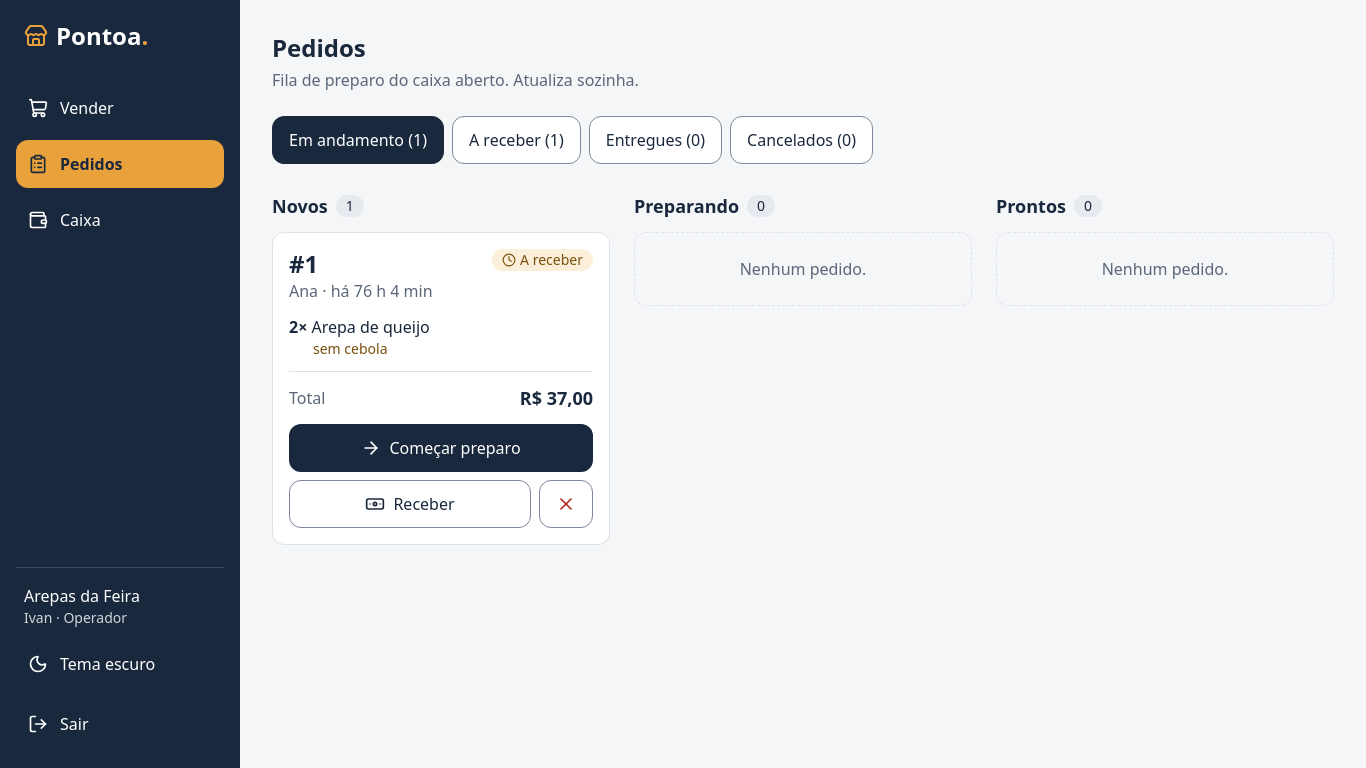
Test: OrdersPage › moves an order to the next step
Click the button "Começar preparo" at (441, 448), box [289,424,593,472]
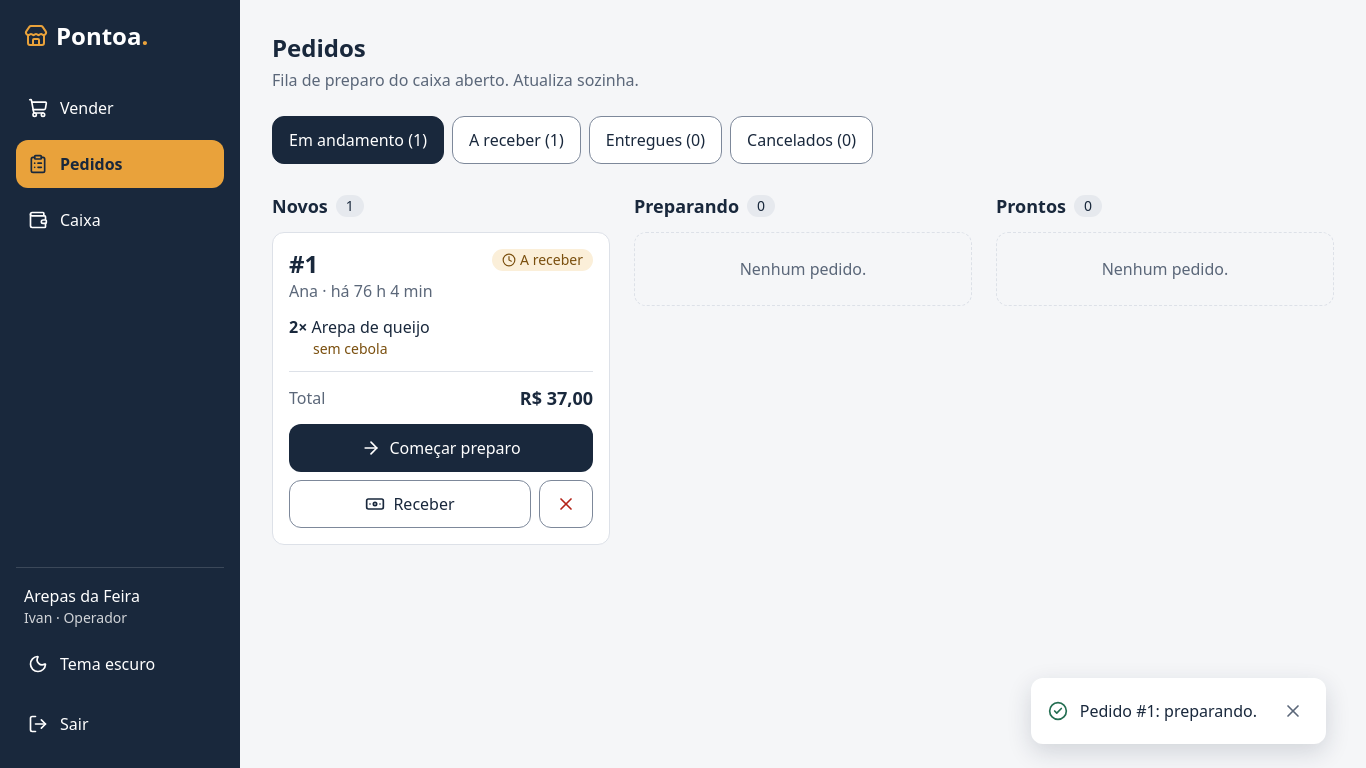
Expected: the text "Pedido #1: preparando." is shown, [1080,700,1257,722]
